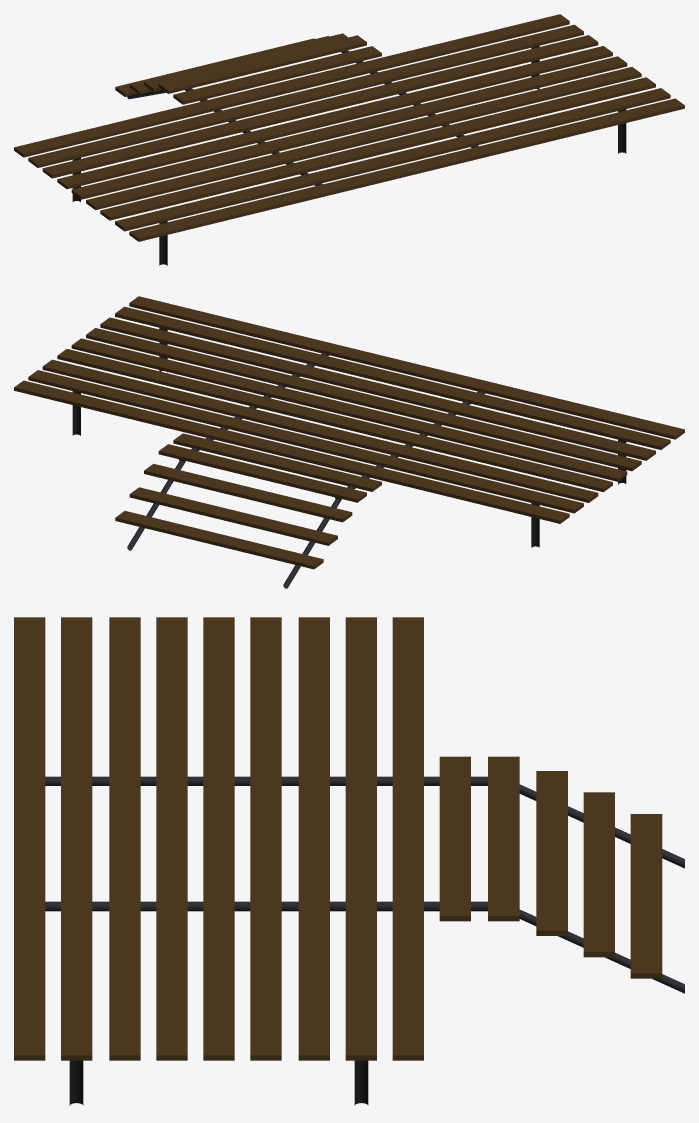
The model's file is CA_069_wooden_planks_var1.glb.
3 views of the same model, one above another, from view 1: azimuth 30°, elevation 25°; view 2: azimuth 150°, elevation 25°; view 3: azimuth 270°, elevation 25° (orthographic). The views are drawn at different scales.
Parts seen in each view (by area): view 1: long_wooden_planks, stairs_wooden_planks, support_legs; view 2: long_wooden_planks, stairs_wooden_planks, support_bars_stairs, support_legs; view 3: long_wooden_planks, stairs_wooden_planks, support_bars_stairs, support_legs.
Part boxes in pixels (x1,y1,x2,y2): long_wooden_planks: [14, 14, 684, 241]; stairs_wooden_planks: [115, 33, 347, 96]; support_legs: [72, 45, 626, 265]; long_wooden_planks: [14, 296, 684, 523]; stairs_wooden_planks: [115, 463, 352, 569]; support_bars_stairs: [127, 460, 341, 588]; support_legs: [72, 327, 626, 547]; long_wooden_planks: [14, 617, 519, 1060]; stairs_wooden_planks: [536, 771, 662, 978]; support_bars_stairs: [519, 784, 684, 993]; support_legs: [69, 1060, 368, 1105].
Bounding box in the file's own units: 8.24 × 0.8277 × 5.33.
